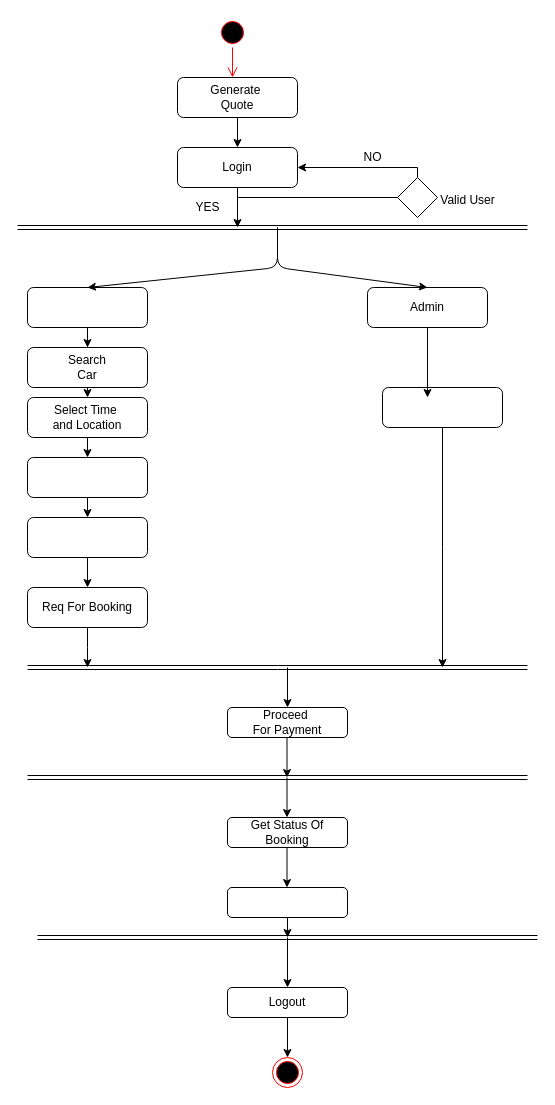
Some shapes in this 555 by 1105 pixel diagram are drawn without their labels. The centre of each missing label's shape, as x and y in pixels:
"Add Extras" belongs at (x=87, y=537).
"Client" belongs at (x=87, y=307).
"Get Acknowledgement" belongs at (x=287, y=902).
"Get Car Quotation" belongs at (x=87, y=477).
"Receive the Booking Request" belongs at (x=442, y=407).
